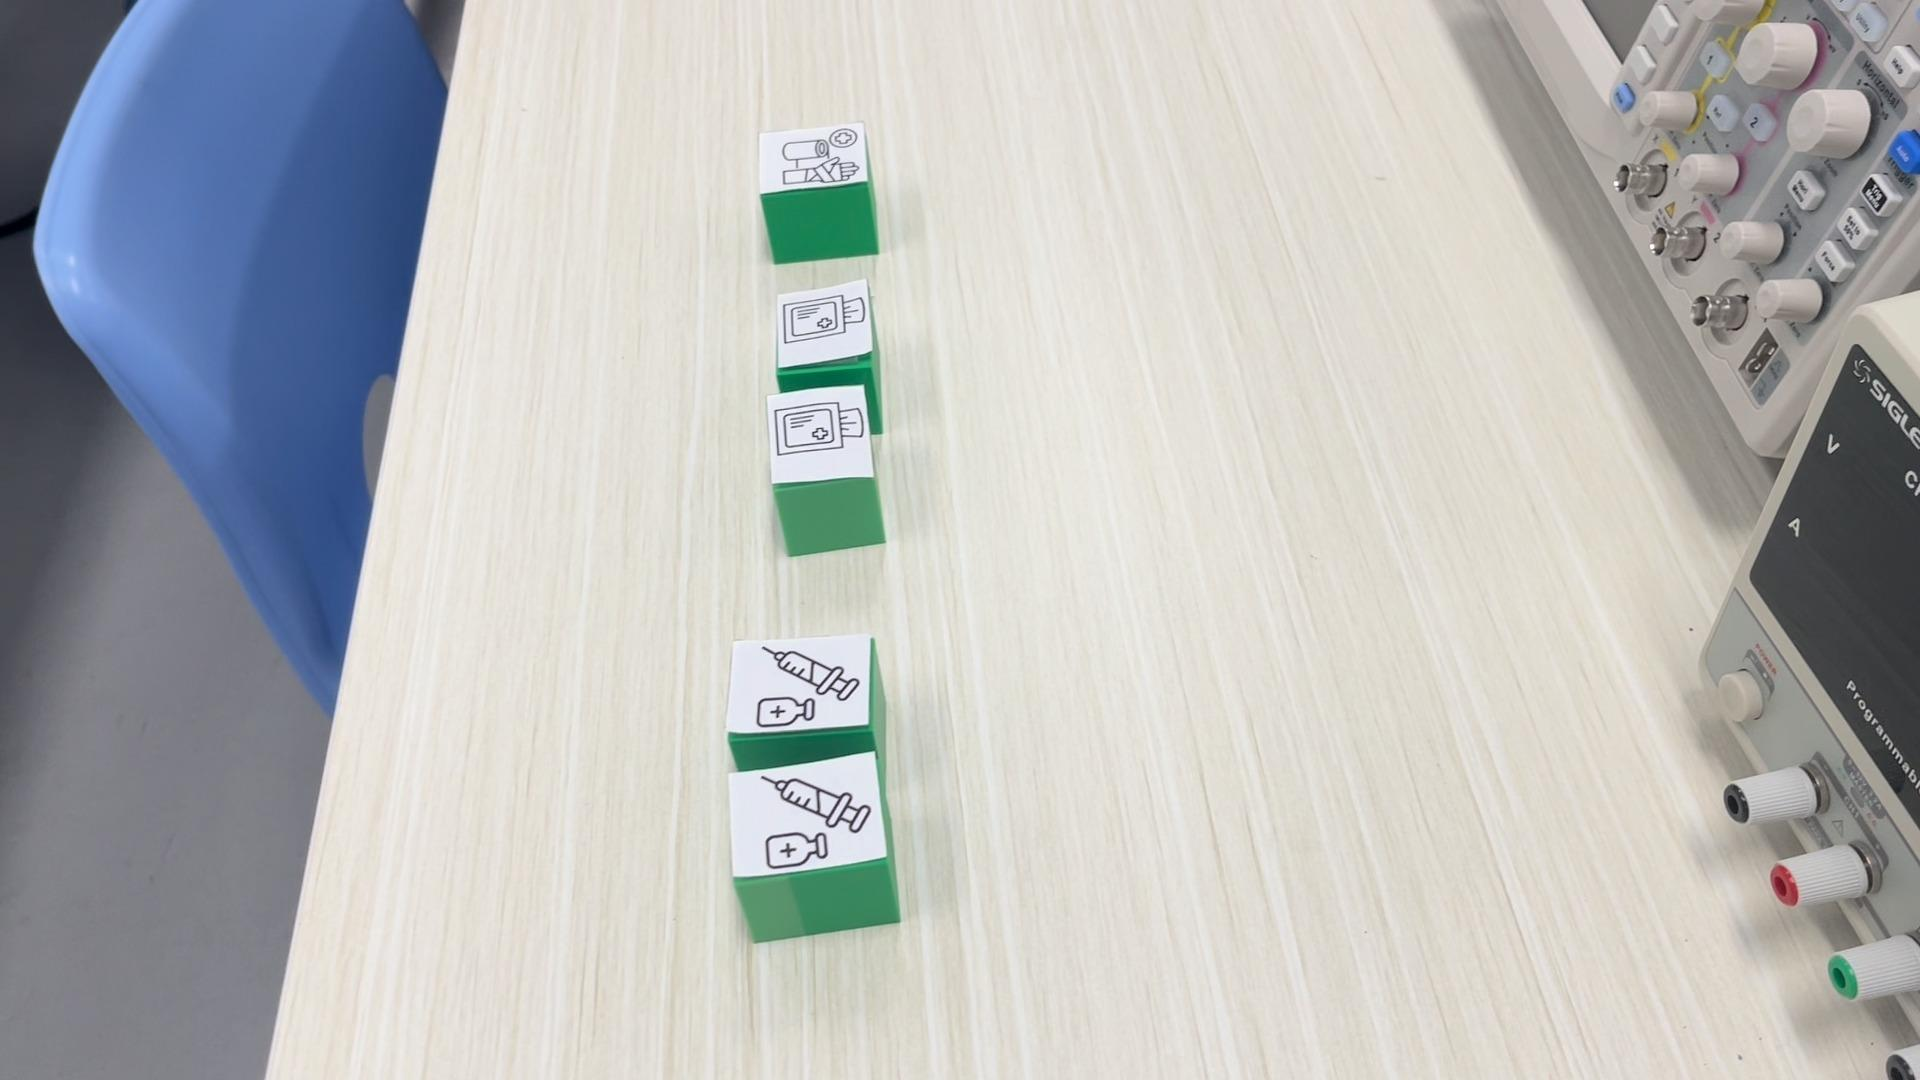Bandages: (762, 121, 881, 264)
Gauze: (766, 384, 887, 555), (775, 278, 877, 385)
antiseptic cream: (725, 753, 903, 944), (728, 632, 882, 771)
